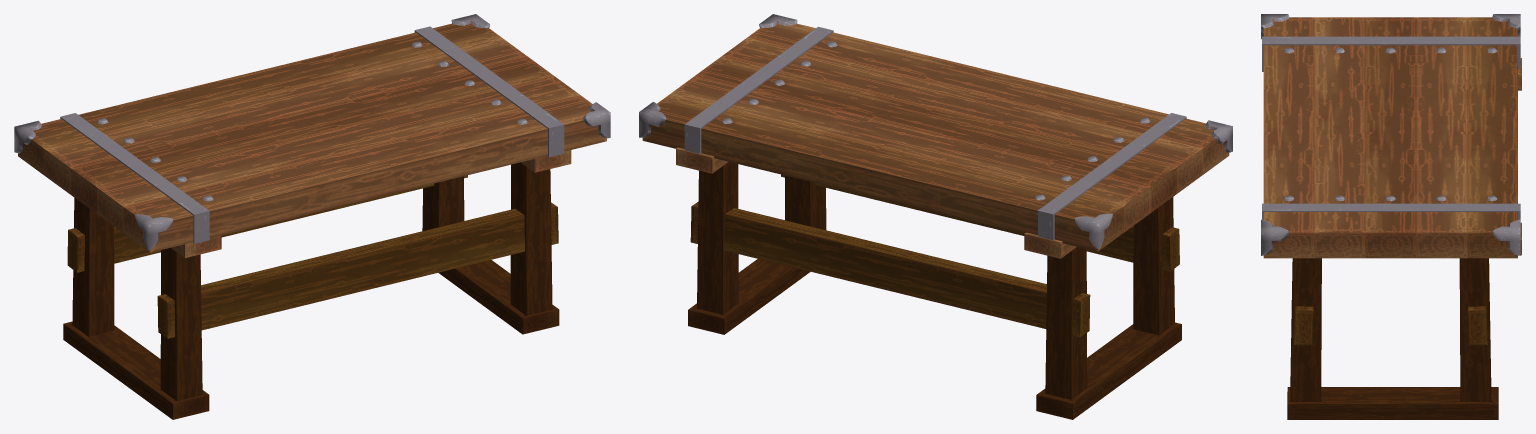
The model's file is Workbench.glb.
The picture shows the model from 3 angles, left to right: view 1: azimuth 30°, elevation 25°; view 2: azimuth 150°, elevation 25°; view 3: azimuth 270°, elevation 25°; orthographic projection. The views are drawn at different scales.
Visible parts, largest first — view 1: Workbench; view 2: Workbench; view 3: Workbench.
Boxes of the visible parts, <box> form: Workbench: <box>14,14,610,419</box>; Workbench: <box>639,14,1232,419</box>; Workbench: <box>1261,14,1521,419</box>.
Bounding box in the file's own units: 2.02 × 0.8946 × 1.02.
2 materials, 2 textured.
